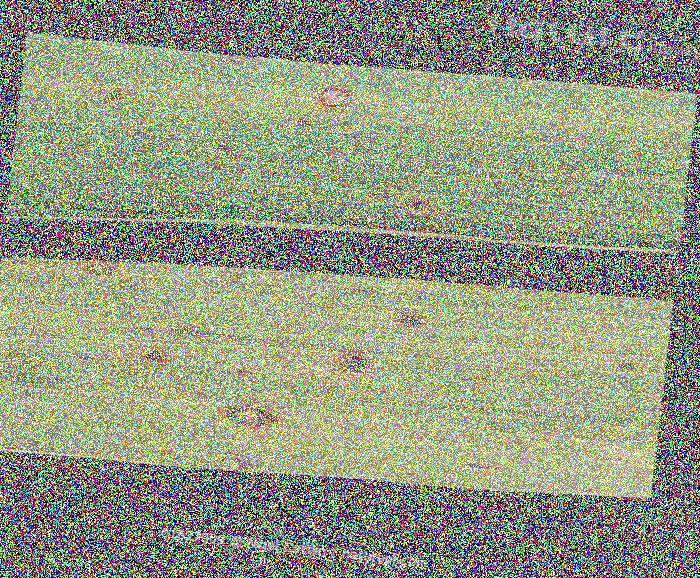Bacterial_Leaf_Blight: (284, 335, 397, 390), (209, 397, 308, 439), (386, 177, 456, 219), (380, 305, 444, 348), (118, 336, 187, 372), (69, 249, 135, 281), (601, 347, 647, 390), (314, 76, 365, 113), (90, 72, 134, 113), (196, 140, 267, 163), (458, 458, 519, 482), (143, 445, 194, 461), (496, 162, 528, 185), (205, 55, 254, 68), (545, 225, 592, 238), (291, 112, 322, 127)
